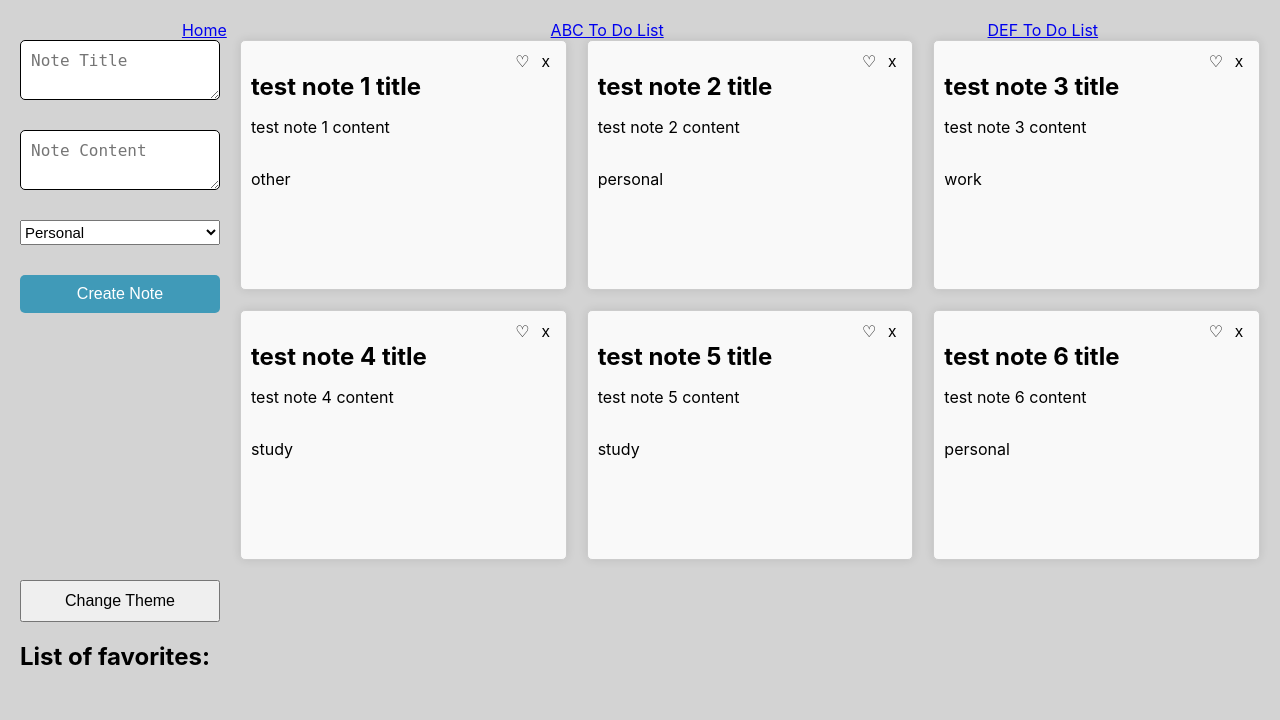
Test: Clicks on a Link component in the navigation bar
Click the link "DEF To Do List".
click(1043, 30)  # box left=988, top=20, right=1098, bottom=40
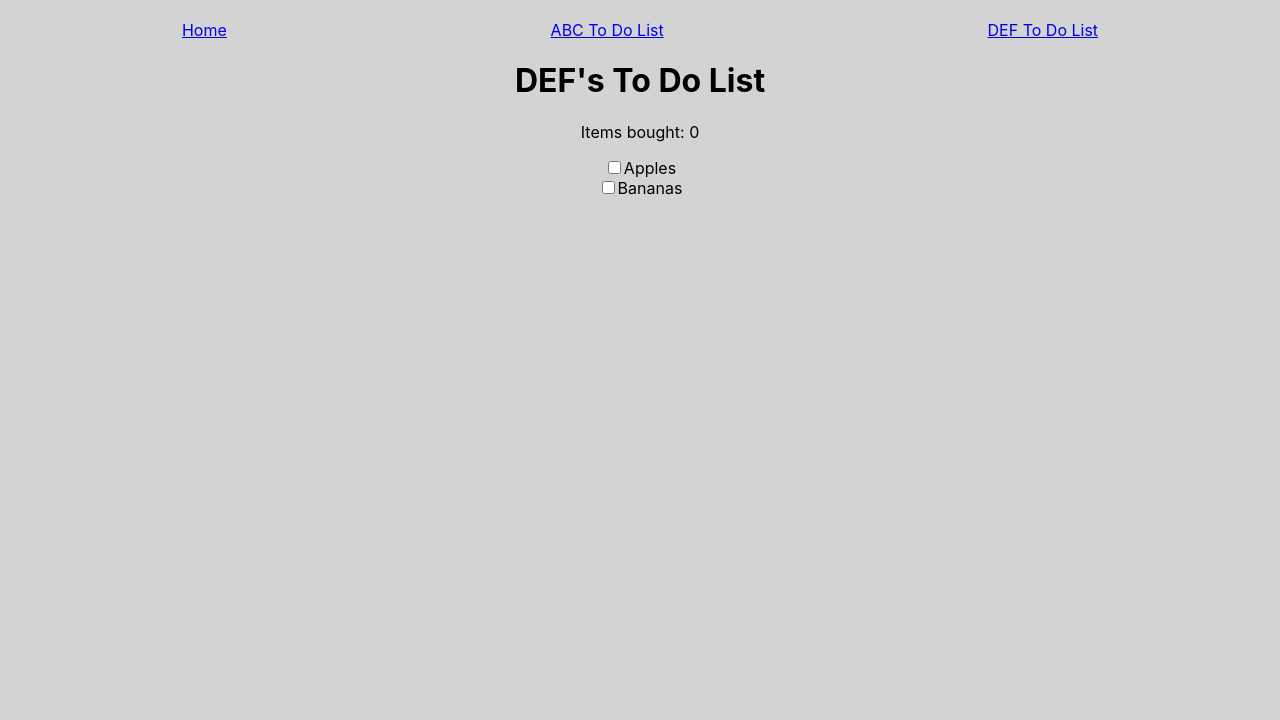
Check: the heading "DEF's To Do List" is shown, box left=515, top=61, right=765, bottom=100
